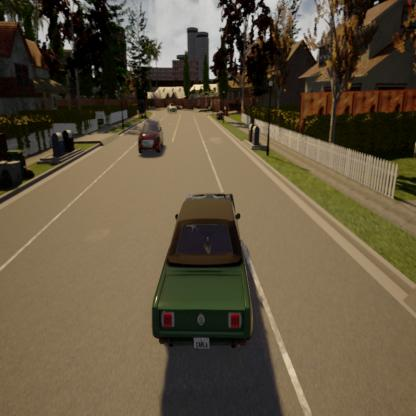Cars: (144, 170, 258, 376), (125, 105, 174, 165)
